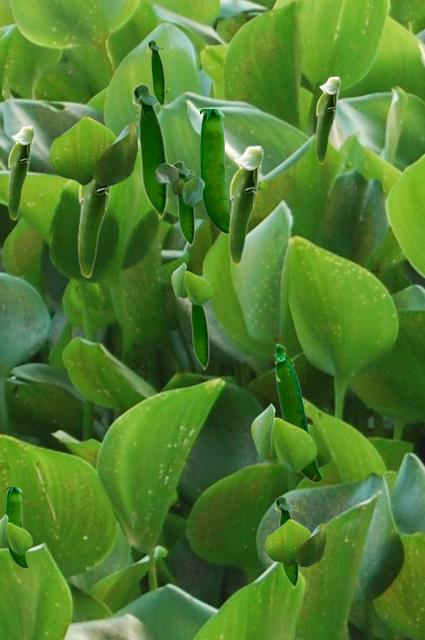pea: (274, 343, 321, 481), (131, 82, 167, 220), (228, 145, 263, 264), (200, 109, 229, 234), (77, 180, 113, 277), (7, 125, 34, 219), (274, 495, 298, 589), (315, 76, 340, 163), (173, 160, 194, 247), (6, 487, 27, 568), (190, 303, 208, 370), (147, 39, 164, 107)
